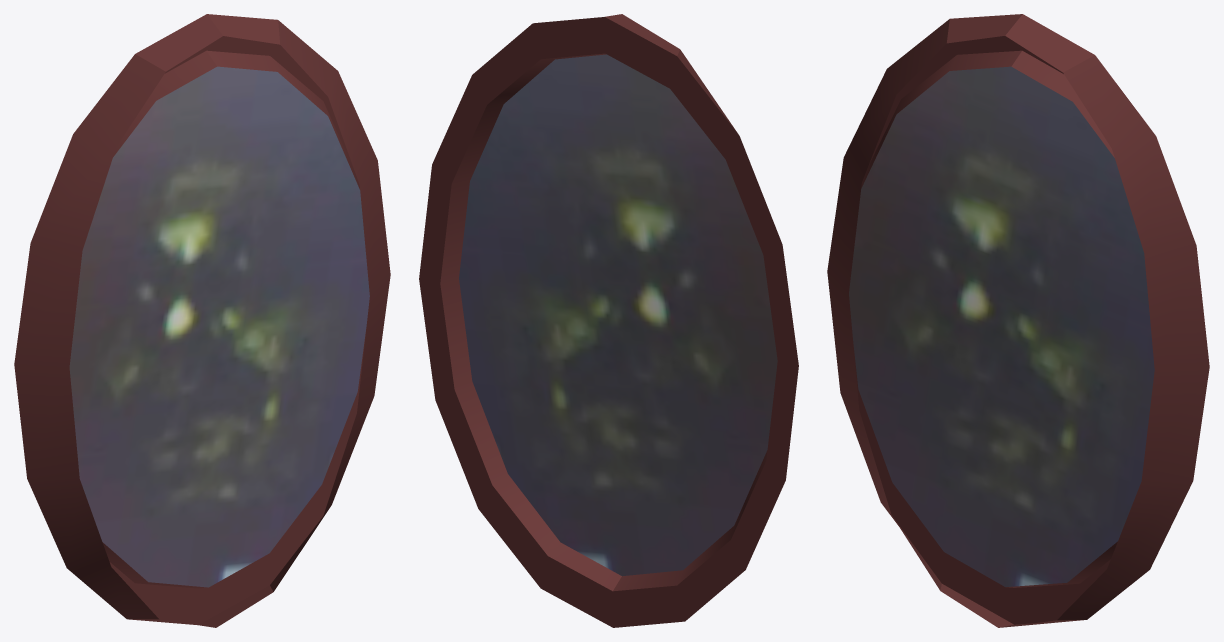
The model's file is DenizHoca.fbx.
3 renders of one model, left to right at view 1: azimuth 30°, elevation 25°; view 2: azimuth 150°, elevation 25°; view 3: azimuth 330°, elevation 25°, orthographic.
Parts seen in each view (by area): view 1: Frame_03; view 2: Frame_03; view 3: Frame_03.
Part boxes in pixels (<box>): Frame_03: <box>14,14,390,627</box>; Frame_03: <box>419,14,798,627</box>; Frame_03: <box>827,14,1209,627</box>.
Size of the model in its own units: 0.5528 by 0.8507 by 0.0474.
Materials: 2 (1 with a texture image).
